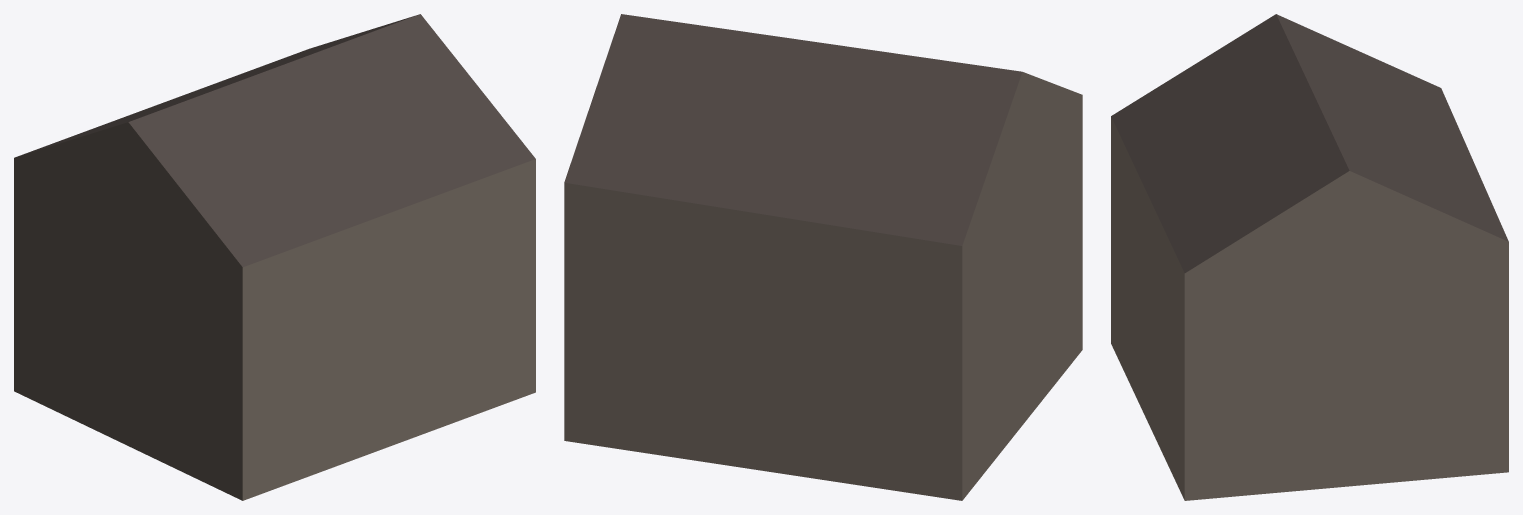
3 views of the same model, side by side, from view 1: azimuth 30°, elevation 25°; view 2: azimuth 150°, elevation 25°; view 3: azimuth 270°, elevation 25° (orthographic). The views are drawn at different scales.
Parts seen in each view (by area): view 1: HP-w1196661474; view 2: HP-w1196661474; view 3: HP-w1196661474.
Boxes of the visible parts, box(x1,y1,x2,y2) form: HP-w1196661474: box(14, 14, 535, 500); HP-w1196661474: box(564, 14, 1082, 500); HP-w1196661474: box(1111, 14, 1508, 500).
Bounding box in the file's own units: 10.49 × 8.32 × 9.51.
